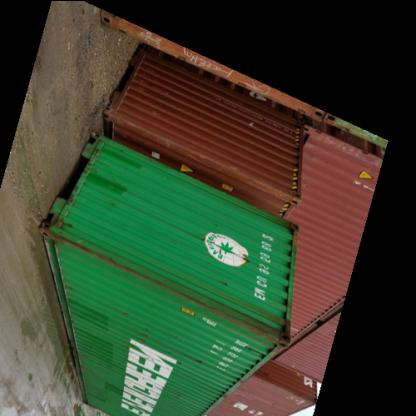Damage: (170, 284, 304, 344), (48, 225, 168, 285)
